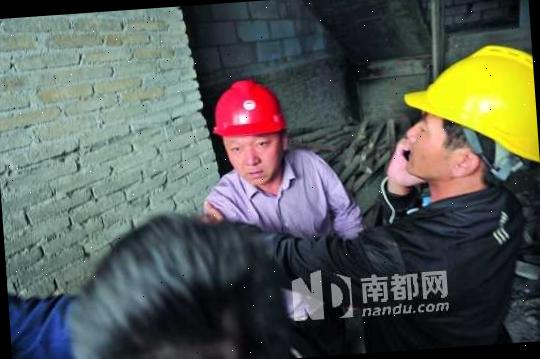helmet: (396, 38, 540, 176), (204, 74, 290, 144)
no_wear: (210, 170, 353, 254)
